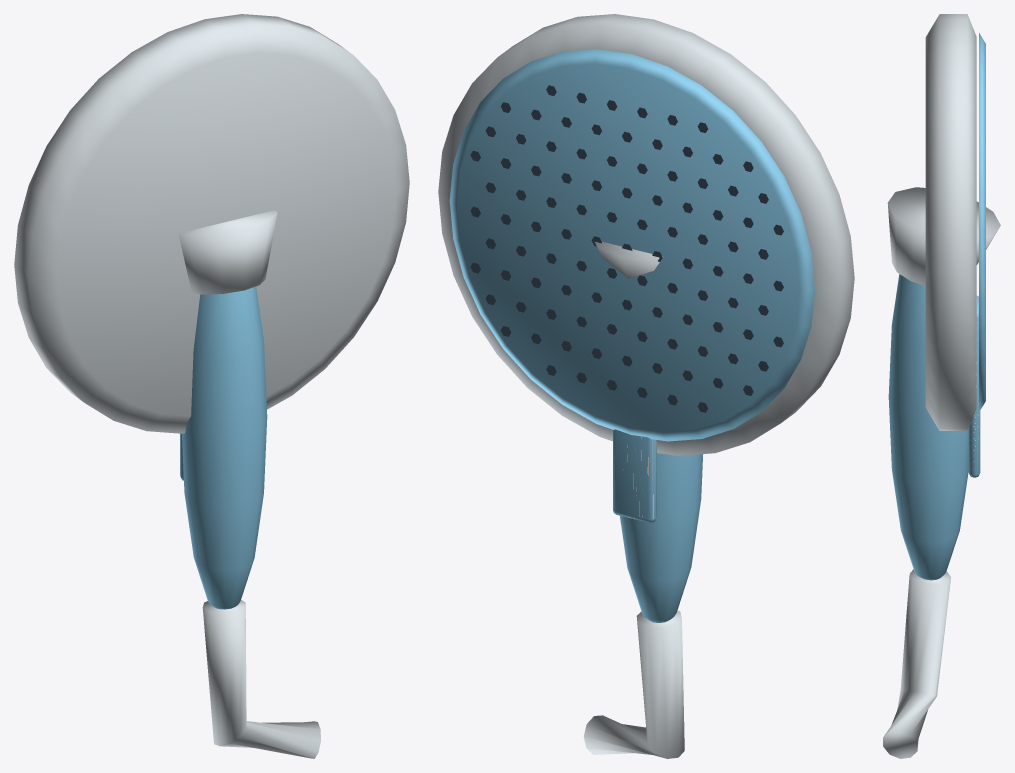
The model's file is shower_rain.glb.
3 renders of one model, left to right at view 1: azimuth 30°, elevation 25°; view 2: azimuth 150°, elevation 25°; view 3: azimuth 270°, elevation 25°, orthographic. The views are drawn at different scales.
Visible parts, largest first — view 1: Body; view 2: Body; view 3: Body.
Boxes of the visible parts, <box> form: Body: <box>14,14,409,758</box>; Body: <box>438,14,854,758</box>; Body: <box>883,14,1000,758</box>.
Size of the model in its own units: 0.1747 by 0.32 by 0.0493.
4 materials, 4 textured.
